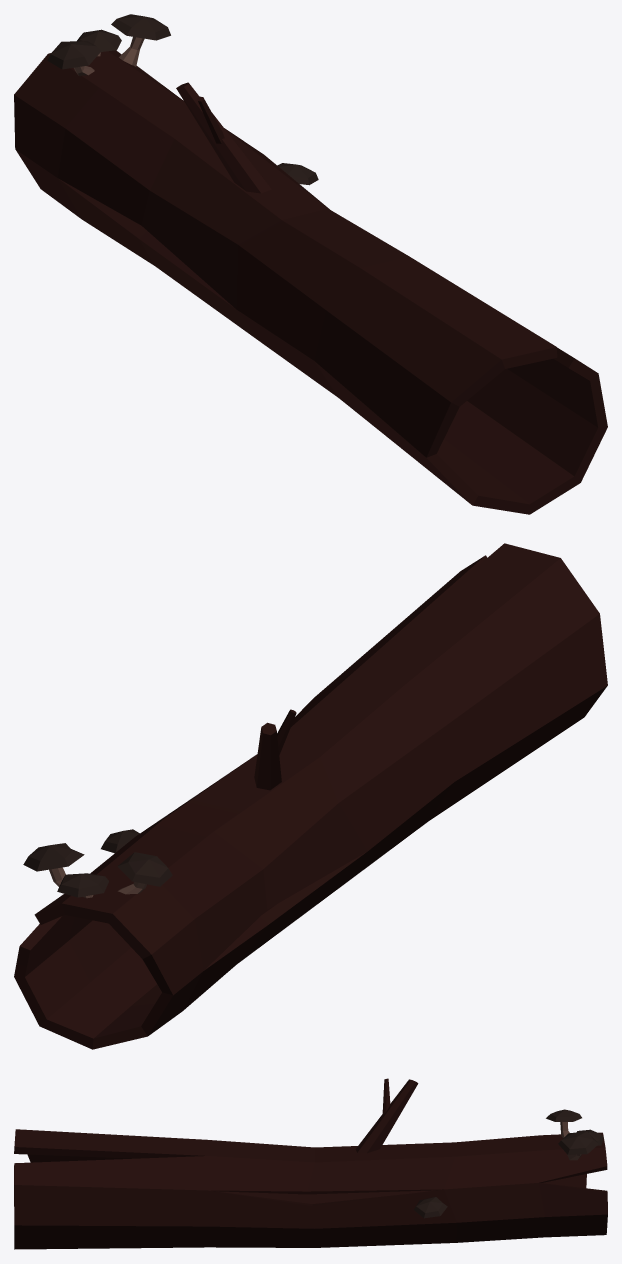
File: WoodLog.glb
The picture shows the model from 3 angles, top to bottom: view 1: azimuth 30°, elevation 25°; view 2: azimuth 150°, elevation 25°; view 3: azimuth 270°, elevation 25°; orthographic projection. The views are drawn at different scales.
Visible parts, largest first — view 1: WoodLog_Cylinder; view 2: WoodLog_Cylinder; view 3: WoodLog_Cylinder.
Part boxes in pixels (x1=…): WoodLog_Cylinder: x1=14, y1=14, x2=607, y2=514; WoodLog_Cylinder: x1=14, y1=543, x2=607, y2=1049; WoodLog_Cylinder: x1=14, y1=1078, x2=607, y2=1249.
Bounding box in the file's own units: 0.6329 × 0.7483 × 2.67.
